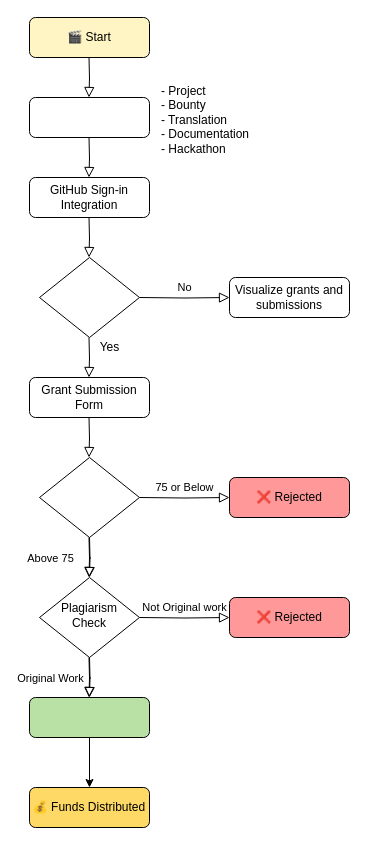
The diagram is 367 pixels wide and 845 high, and some of its shapes have lost their labels. Each missing label, with the box of its shape:
Authenticated?: (38, 256, 140, 338)
ChatGPT Evaluation: (38, 456, 140, 538)
Grant Creation Process: (28, 96, 150, 138)
✅ Approved: (28, 696, 150, 738)
